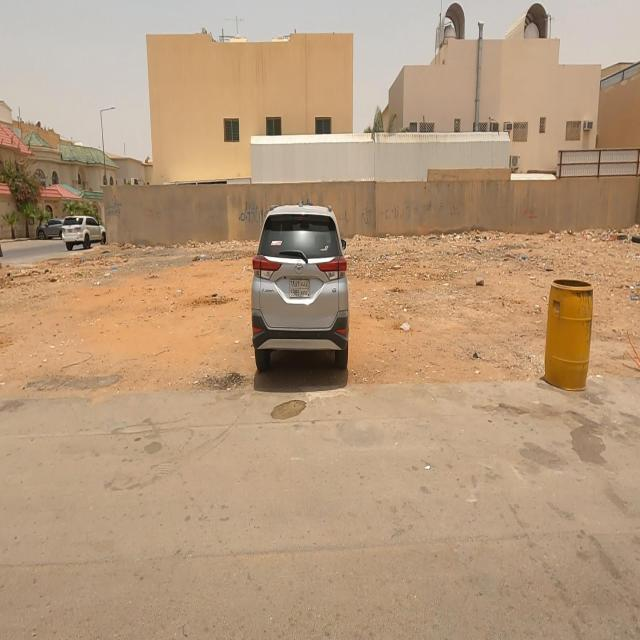Graffiti: (362, 200, 462, 227), (238, 202, 266, 229), (525, 206, 539, 226), (338, 212, 351, 227)
